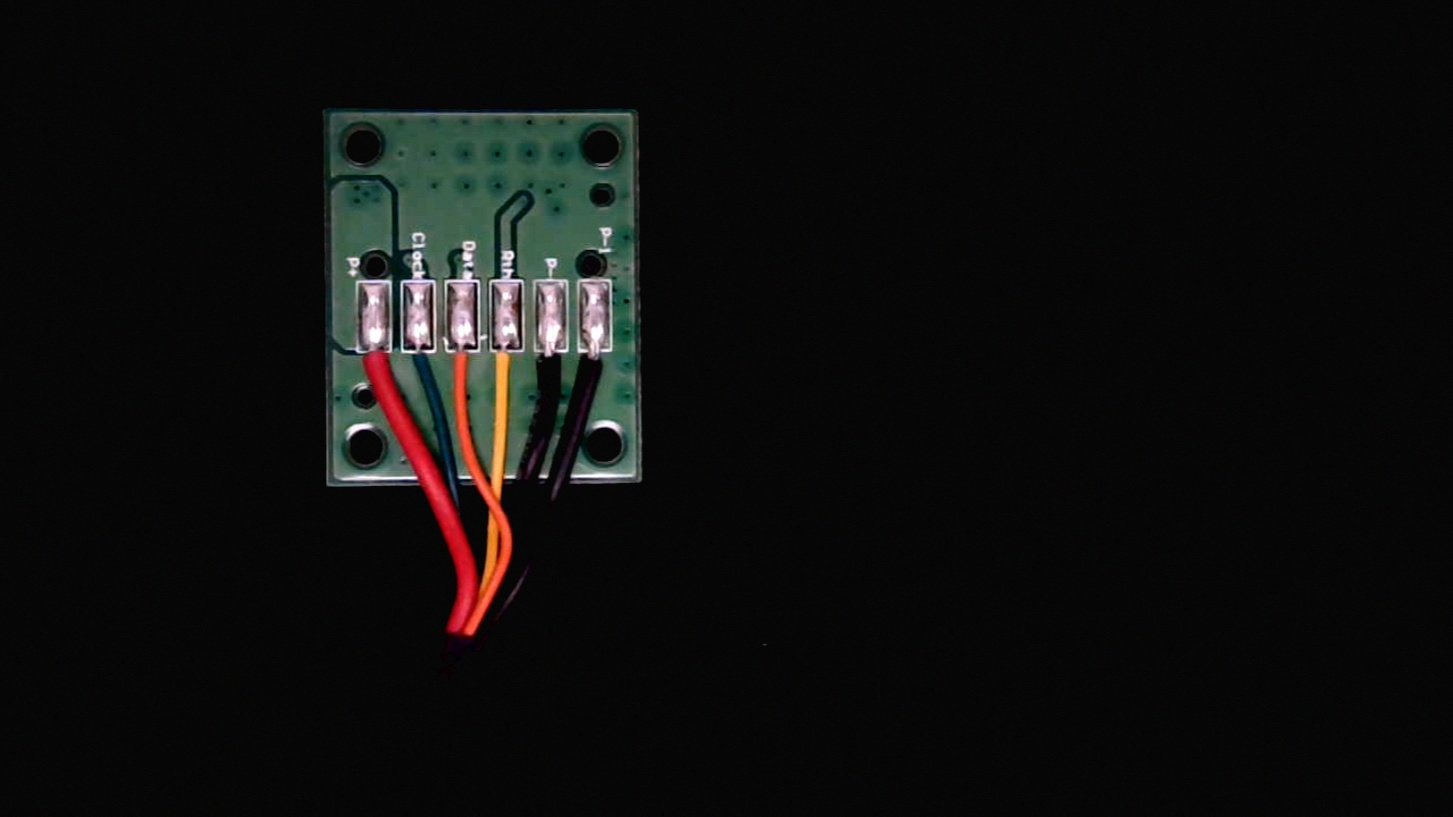Black: (535, 336, 572, 417)
Black1: (580, 337, 618, 411)
Green: (404, 337, 442, 403)
Orange: (446, 335, 483, 405)
Red: (357, 335, 397, 408)
Yellow: (490, 335, 527, 411)
